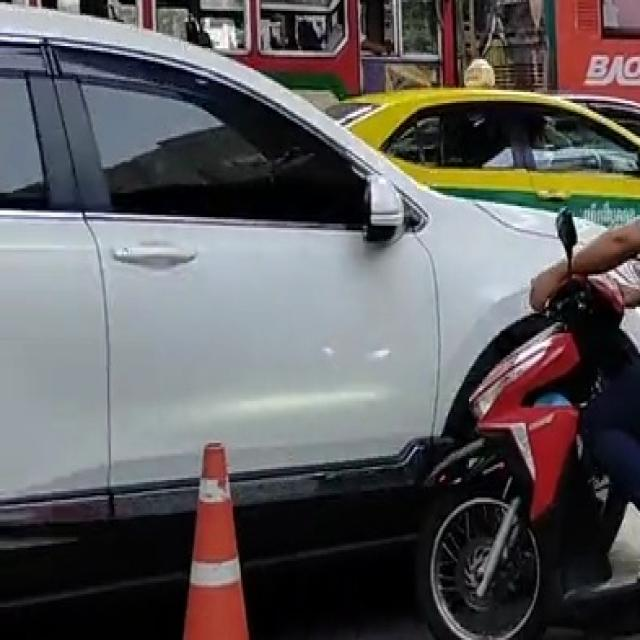door: (57, 57, 440, 500)
helmet: (544, 272, 624, 333)
tyre: (415, 489, 547, 638)
